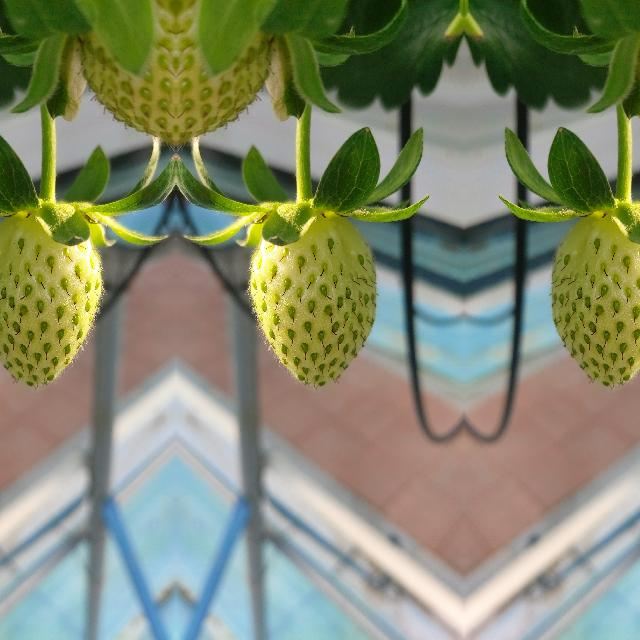Health_25: (243, 214, 377, 390), (0, 214, 107, 389), (549, 214, 640, 389), (174, 0, 276, 142), (74, 0, 176, 142)
